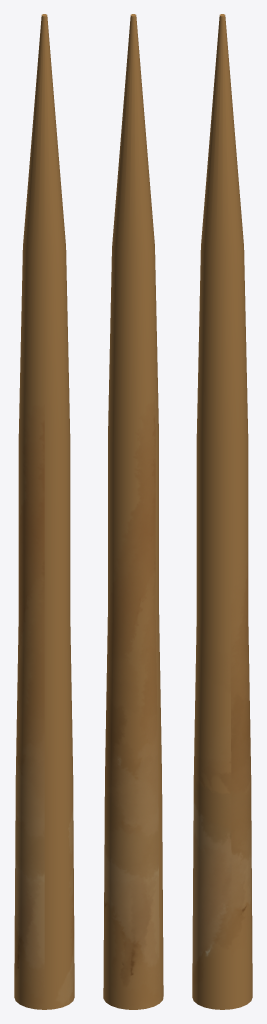
File: Stem.fbx
3 renders of one model, left to right at view 1: azimuth 90°, elevation 25°; view 2: azimuth 150°, elevation 25°; view 3: azimuth 270°, elevation 25°, orthographic.
Visible parts, largest first — view 1: pCylinder2; view 2: pCylinder2; view 3: pCylinder2.
Part boxes in pixels (x1,y1,x2,y2): pCylinder2: (14,14,74,1009); pCylinder2: (103,14,163,1009); pCylinder2: (192,14,252,1009).
Bounding box in the file's own units: 1.06 × 19.06 × 1.06.
